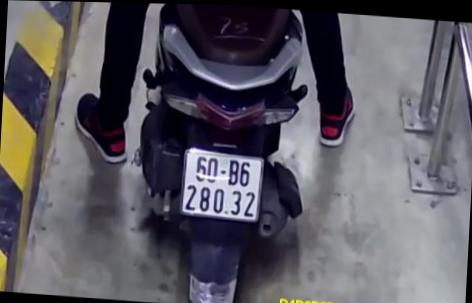LP: (179, 144, 266, 223)
